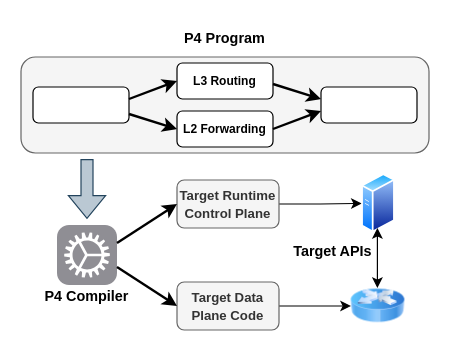
This 450x359 diagram has some shape labels left out. The centre of each missing label's shape, as x and y in pixels:
"Access Control List" belongs at [368,104].
"Packet Classifiesr" belongs at [80,104].
